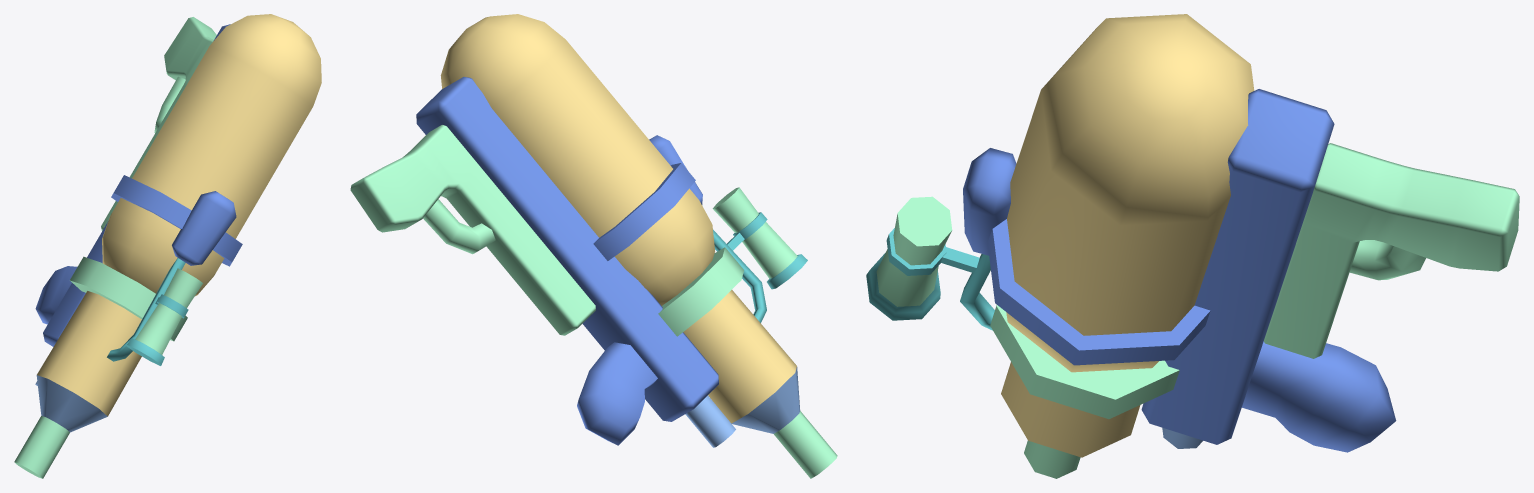
File: salt_gun.fbx
The picture shows the model from 3 angles, left to right: view 1: azimuth 30°, elevation 25°; view 2: azimuth 150°, elevation 25°; view 3: azimuth 270°, elevation 25°; orthographic projection. The views are drawn at different scales.
Parts seen in each view (by area): view 1: salt_gun; view 2: salt_gun; view 3: salt_gun.
Boxes of the visible parts, left/top/right/bottom form: salt_gun: left=14, top=14, right=321, bottom=478; salt_gun: left=350, top=14, right=837, bottom=478; salt_gun: left=866, top=14, right=1519, bottom=478.
Bounding box in the file's own units: 26.28 × 29.01 × 25.51.
Materials: 1 (1 with a texture image).
